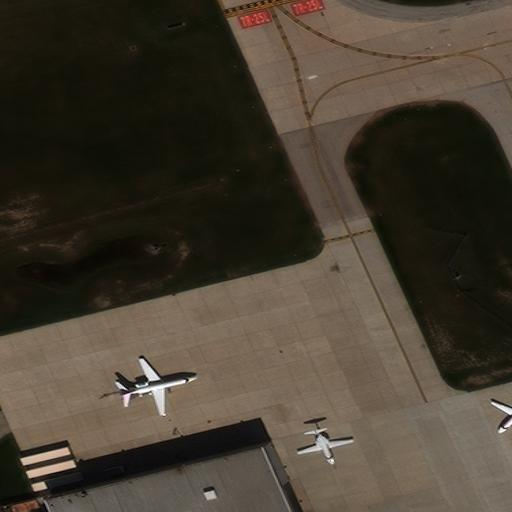Medium Civil Transport: (118, 358, 197, 416), (489, 401, 511, 433)
Small Civil Transport: (297, 429, 354, 465)
